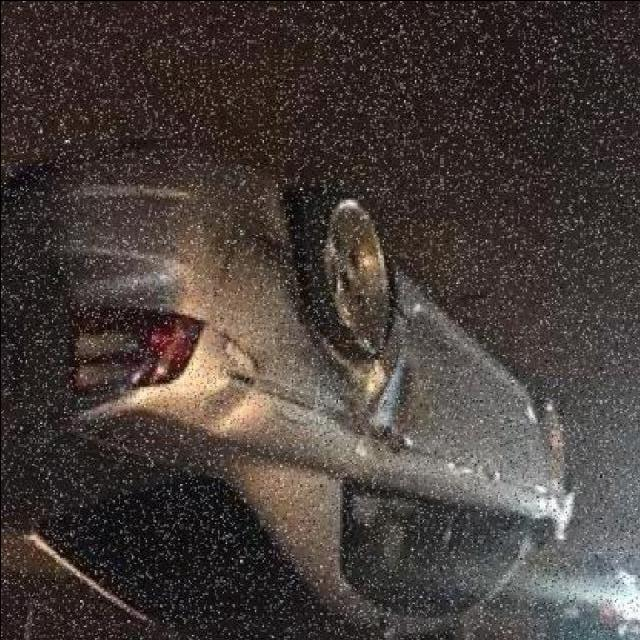doorouter-dent: (369, 333, 473, 492)
quaterpanel-dent: (210, 257, 356, 471)
